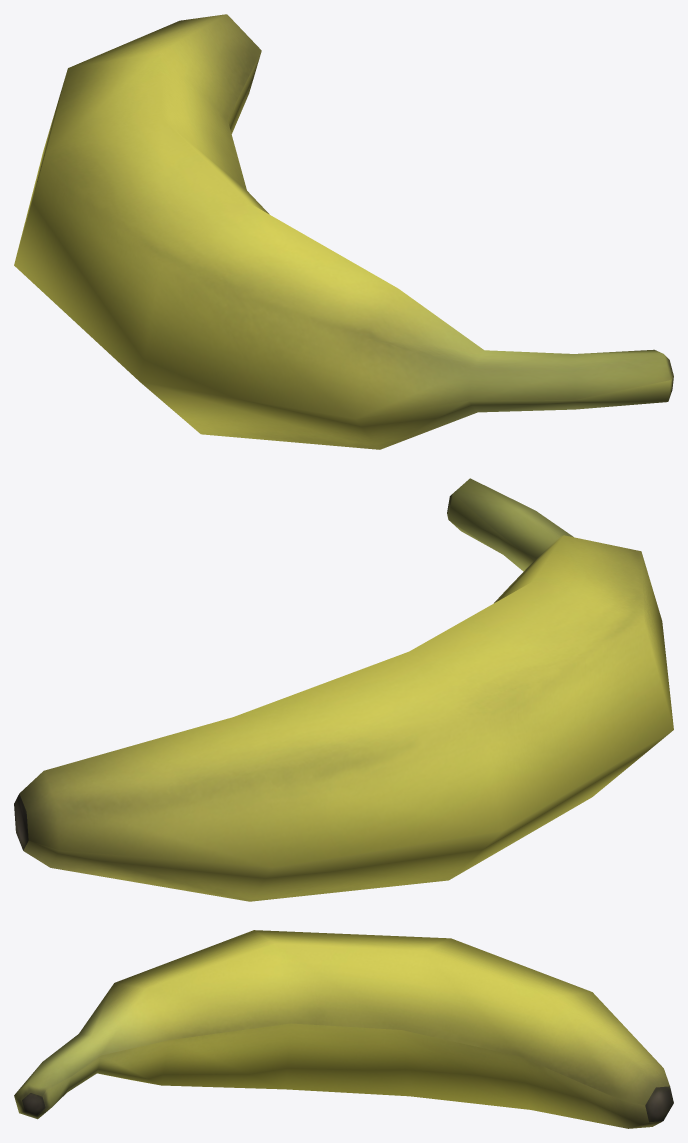
Rendered from Banana.FBX.
The picture shows the model from 3 angles, top to bottom: view 1: azimuth 30°, elevation 25°; view 2: azimuth 150°, elevation 25°; view 3: azimuth 270°, elevation 25°; orthographic projection. The views are drawn at different scales.
Visible parts, largest first — view 1: Cylinder013; view 2: Cylinder013; view 3: Cylinder013.
Part boxes in pixels (x1,y1,x2,y2): Cylinder013: (14,14,673,449); Cylinder013: (14,478,673,901); Cylinder013: (14,930,673,1128).
Bounding box in the file's own units: 31.74 × 16.52 × 65.86.
1 material, 1 textured.
